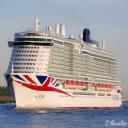cruises: (5, 14, 125, 113)
